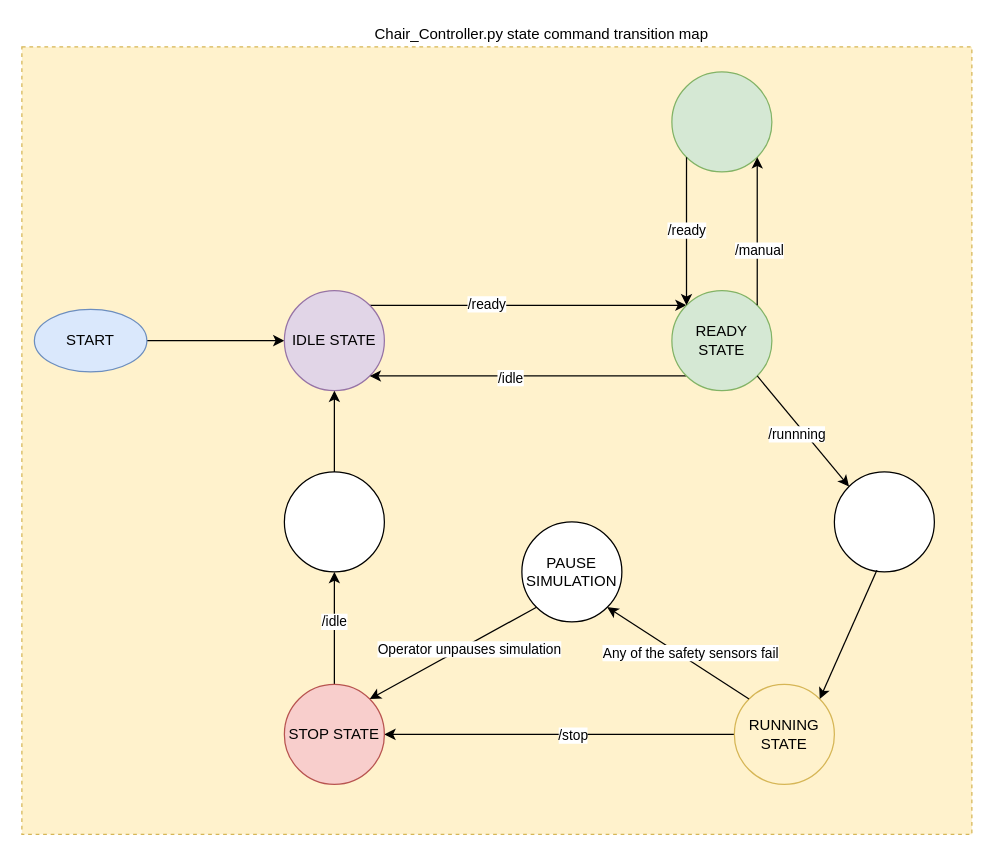
The diagram is 994 pixels wide and 856 high, and some of its shapes have lost their labels. The centre of each missing label's shape, as x and y in pixels:
MANUAL CONTROL STATE: (721,121)
RESET SIMULATION: (333,521)
START SIMULATION: (883,521)
